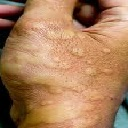Hives: (24, 100, 96, 125), (12, 40, 44, 83), (72, 46, 114, 76)
